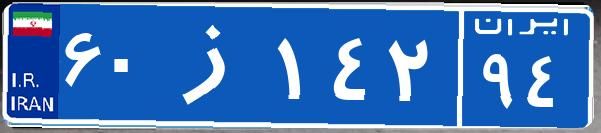0: (110, 28, 158, 105)
1: (273, 28, 330, 110)
2: (385, 28, 445, 110)
4: (330, 28, 385, 110), (525, 38, 570, 115)
6: (57, 26, 110, 107)
9: (475, 38, 525, 113)
ز: (158, 15, 273, 115)
